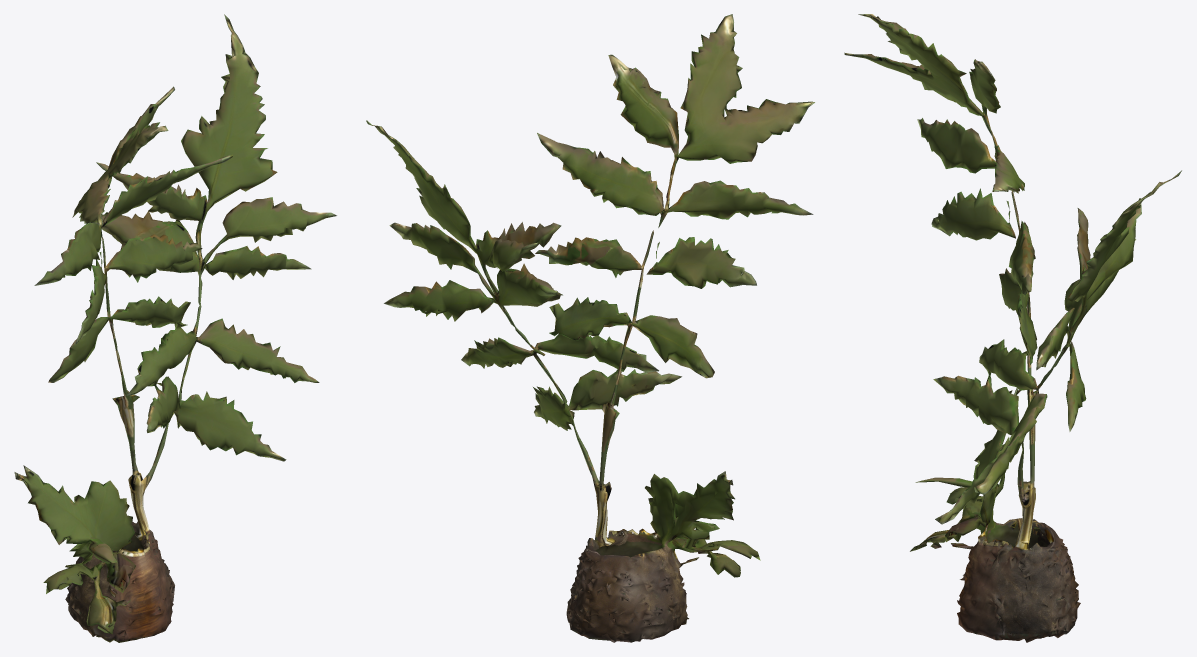
File: neem.glb
3 renders of one model, left to right at view 1: azimuth 30°, elevation 25°; view 2: azimuth 150°, elevation 25°; view 3: azimuth 270°, elevation 25°, orthographic. The views are drawn at different scales.
Size of the model in its own units: 1.34 by 1.97 by 1.02.
Materials: 1 (1 with a texture image).
